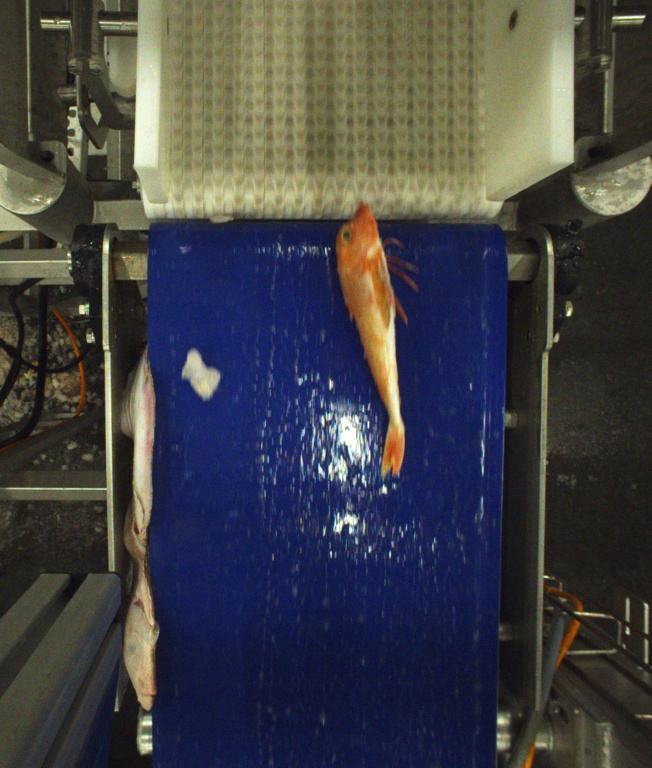GUU: (334, 200, 417, 478)
